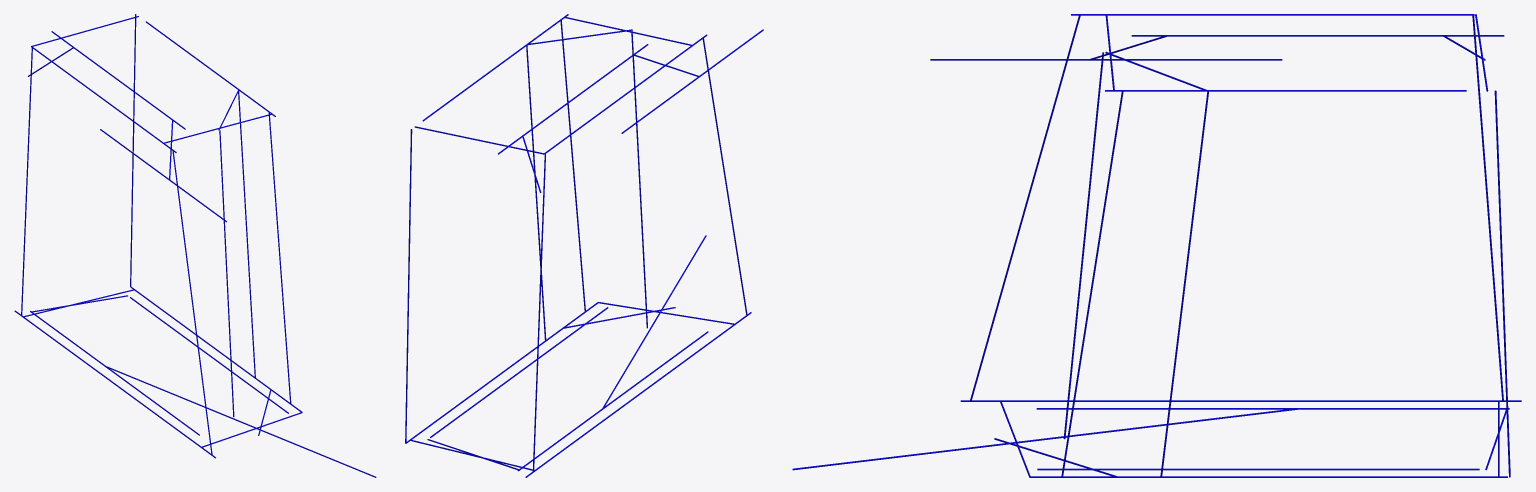
File: corrected_3d_strokes.glb
3 views of the same model, side by side, from view 1: azimuth 30°, elevation 25°; view 2: azimuth 150°, elevation 25°; view 3: azimuth 270°, elevation 25° (orthographic). The views are drawn at different scales.
Parts seen in each view (by area): view 1: world; view 2: world; view 3: world.
Part boxes in pixels (x1,y1,x2,y2): world: [14, 14, 376, 477]; world: [405, 14, 763, 477]; world: [792, 14, 1521, 477].
Size of the model in its own units: 3.93 by 9.27 by 15.79.
